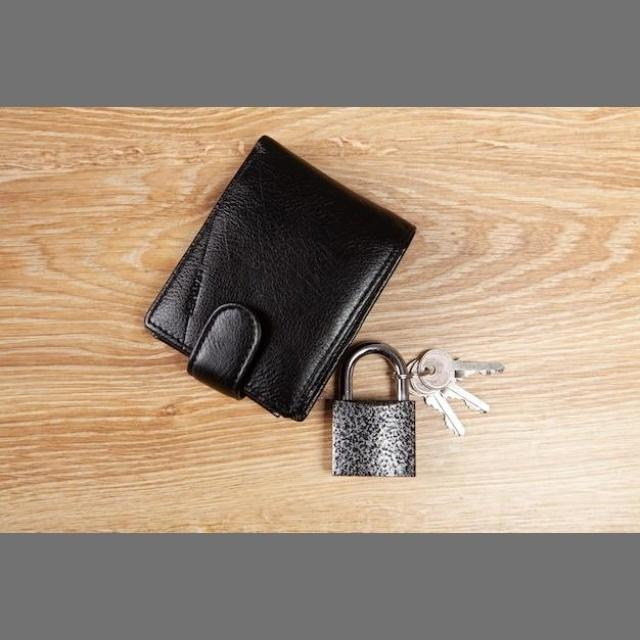Wallet: (112, 126, 422, 404)
